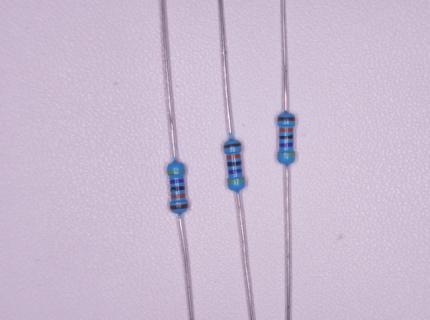Black band: (227, 161, 242, 167), (170, 186, 185, 191), (280, 135, 294, 139)
Brown band: (170, 203, 188, 211), (223, 142, 242, 149), (277, 117, 295, 121)
Orange band: (171, 193, 186, 200), (227, 154, 241, 160), (279, 128, 293, 132)
Violet band: (228, 168, 243, 175), (279, 142, 293, 148), (169, 179, 184, 184)
Yellow band: (227, 178, 245, 184), (167, 170, 186, 175), (278, 152, 296, 156)
